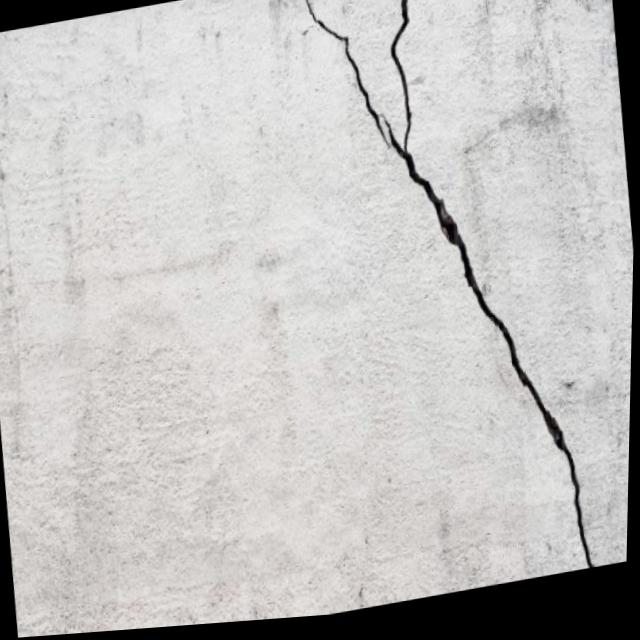Crack: (275, 0, 616, 621)
